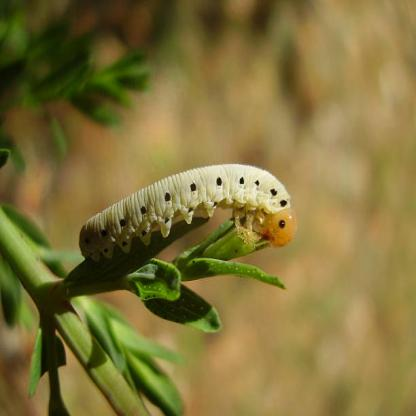sawfly: (75, 158, 297, 280)
